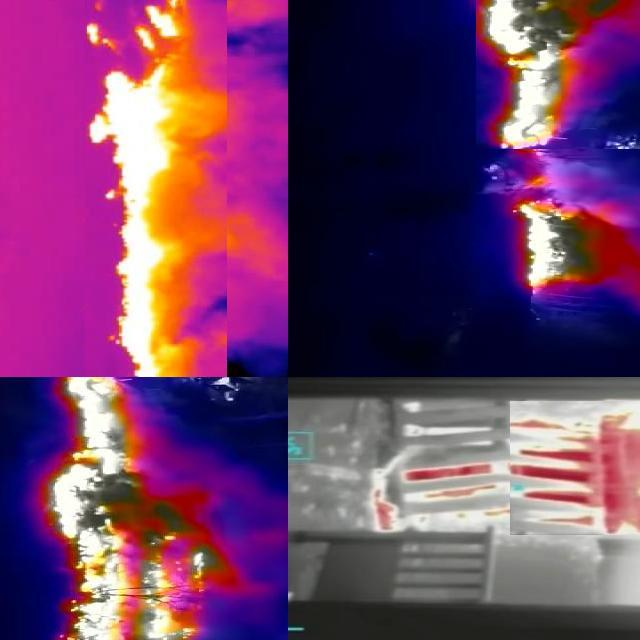fire: (86, 1, 228, 378), (48, 378, 244, 640), (477, 1, 640, 149), (502, 154, 640, 299), (511, 401, 640, 535)
